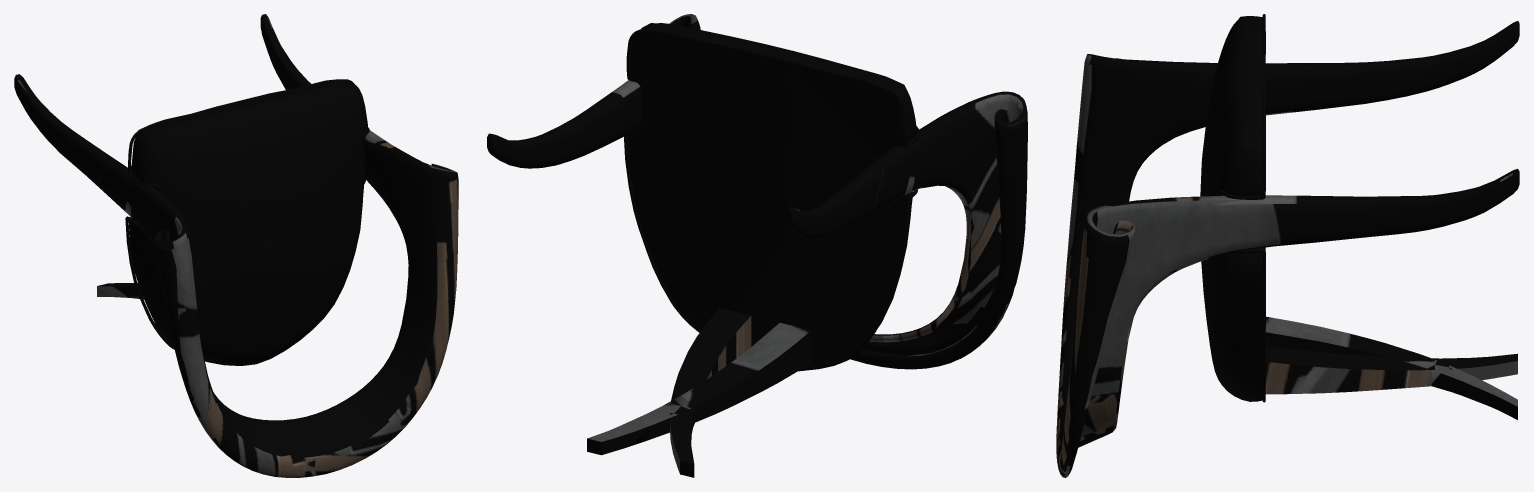
The picture shows the model from 3 angles, left to right: view 1: azimuth 30°, elevation 25°; view 2: azimuth 150°, elevation 25°; view 3: azimuth 270°, elevation 25°; orthographic projection. The views are drawn at different scales.
Bounding box in the file's own units: 0.69 × 0.6973 × 0.7568.
